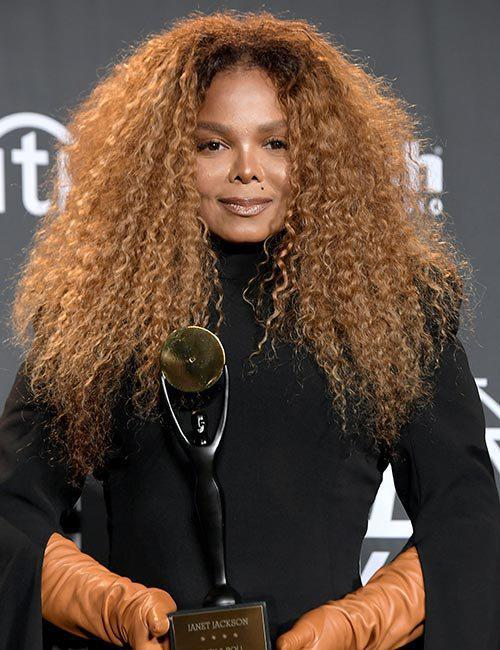Sober: (196, 72, 290, 232)
